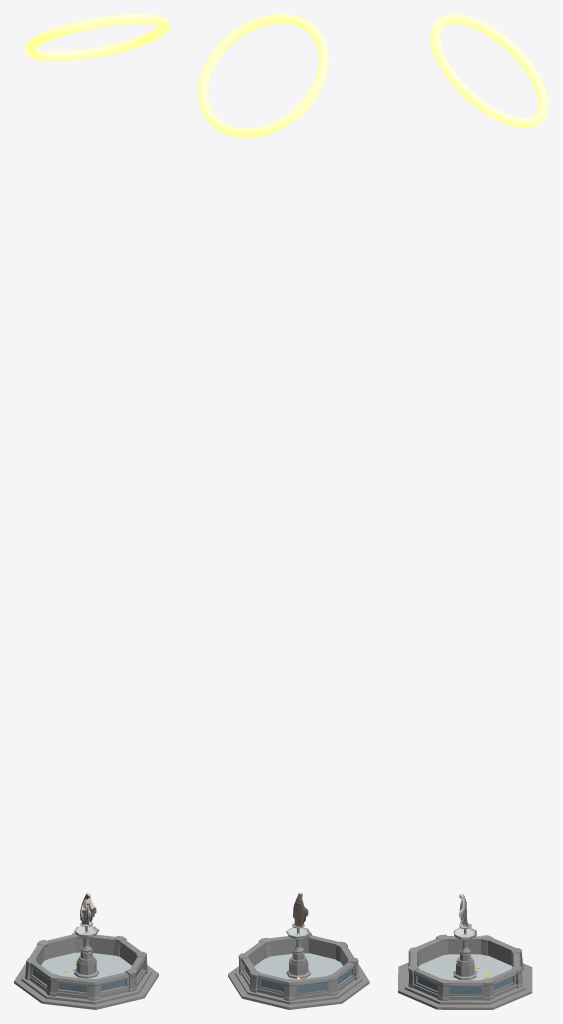
The model's file is fountain1.glb.
The picture shows the model from 3 angles, left to right: view 1: azimuth 30°, elevation 25°; view 2: azimuth 150°, elevation 25°; view 3: azimuth 270°, elevation 25°; orthographic projection. The views are drawn at different scales.
Parts seen in each view (by area): view 1: Fountain, halo, statue; view 2: Fountain, halo; view 3: Fountain, halo.
Boxes of the visible parts, <box> form: Fountain: <box>14,921,158,1009</box>; halo: <box>25,14,169,61</box>; statue: <box>80,892,96,925</box>; Fountain: <box>228,923,369,1009</box>; halo: <box>198,14,329,138</box>; Fountain: <box>398,923,532,1009</box>; halo: <box>430,14,548,127</box>.
Size of the model in its own units: 5.34 by 34.21 by 4.85.
Materials: 8 (1 with a texture image).
